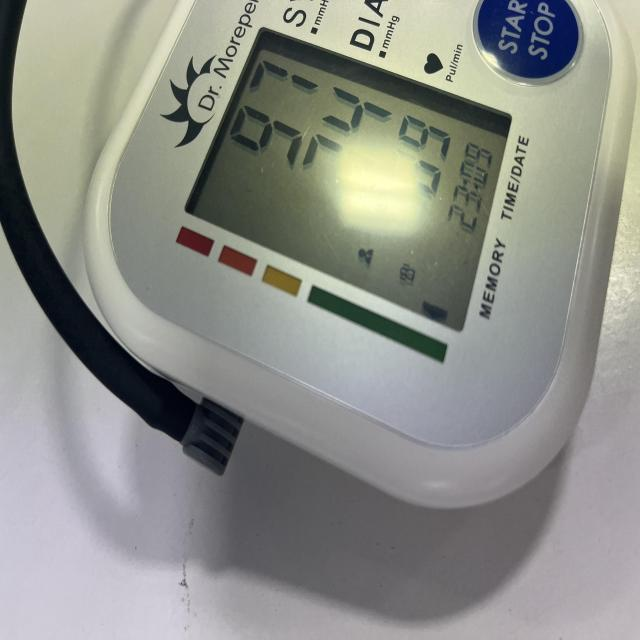bp: (81, 0, 640, 513)
